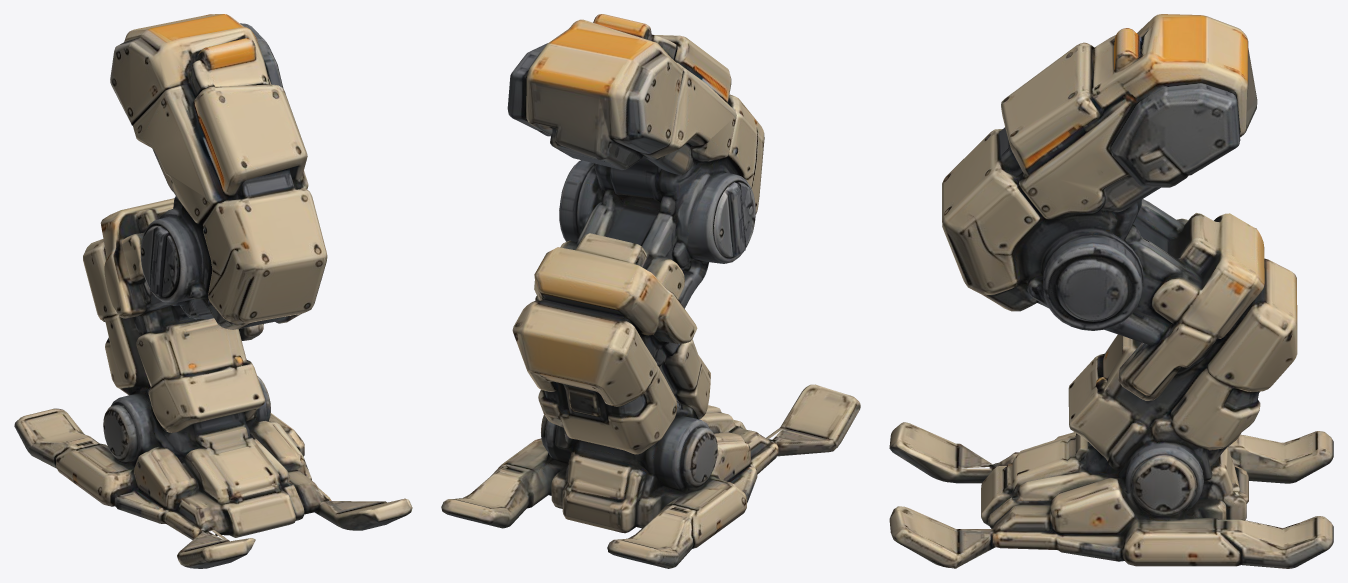
The model's file is 02_Right_Leg.glb.
3 views of the same model, side by side, from view 1: azimuth 30°, elevation 25°; view 2: azimuth 150°, elevation 25°; view 3: azimuth 270°, elevation 25° (orthographic). The views are drawn at different scales.
Visible parts, largest first — view 1: 02_Right_Leg; view 2: 02_Right_Leg; view 3: 02_Right_Leg.
Boxes of the visible parts, box(x1,y1,x2,y2) form: 02_Right_Leg: box(14, 14, 412, 568); 02_Right_Leg: box(441, 14, 860, 568); 02_Right_Leg: box(889, 14, 1333, 568).
Size of the model in its own units: 0.5063 by 0.9995 by 0.8257.
Materials: 1 (1 with a texture image).
